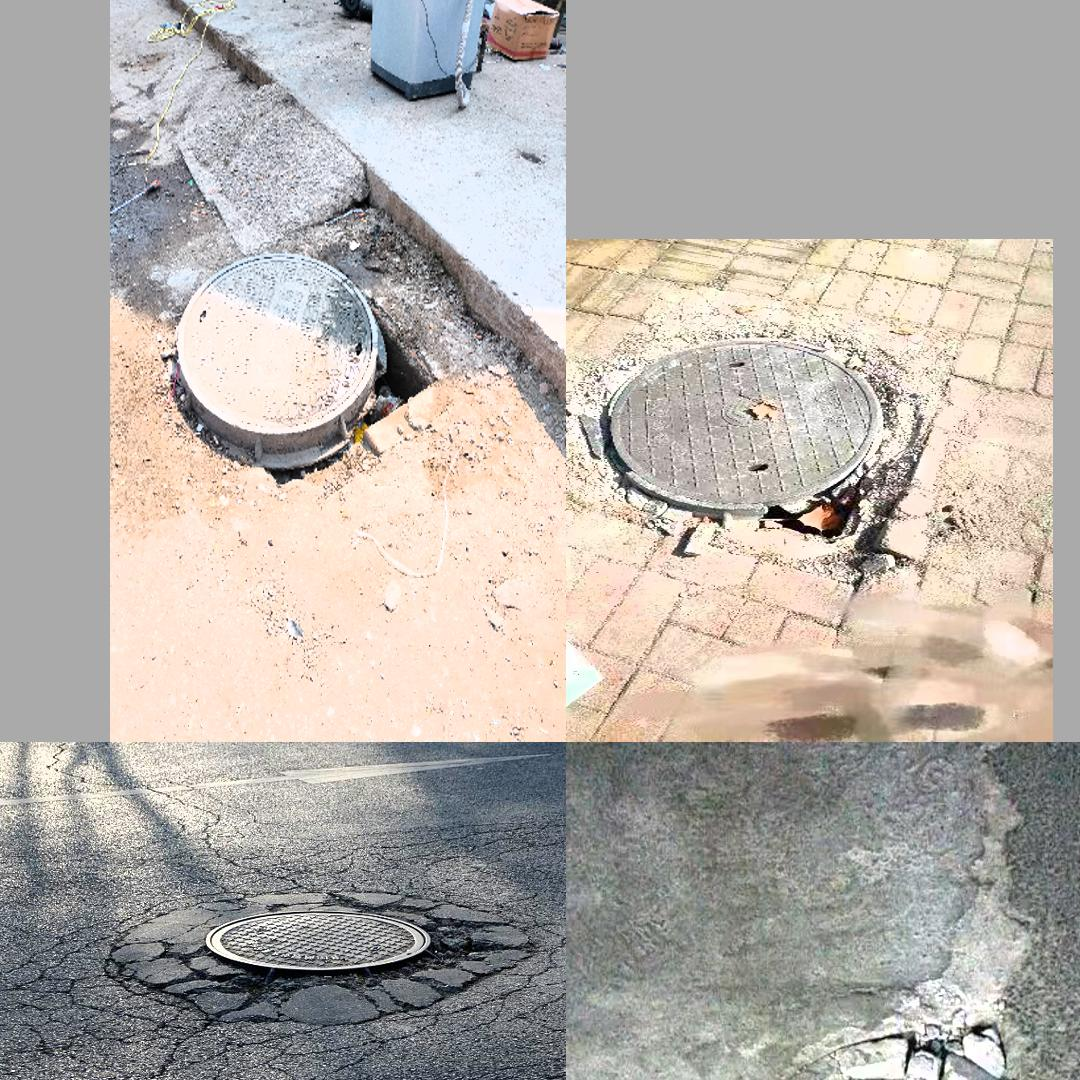circle: (566, 326, 931, 534), (92, 886, 492, 1042), (165, 238, 417, 477), (675, 1032, 1080, 1080)
